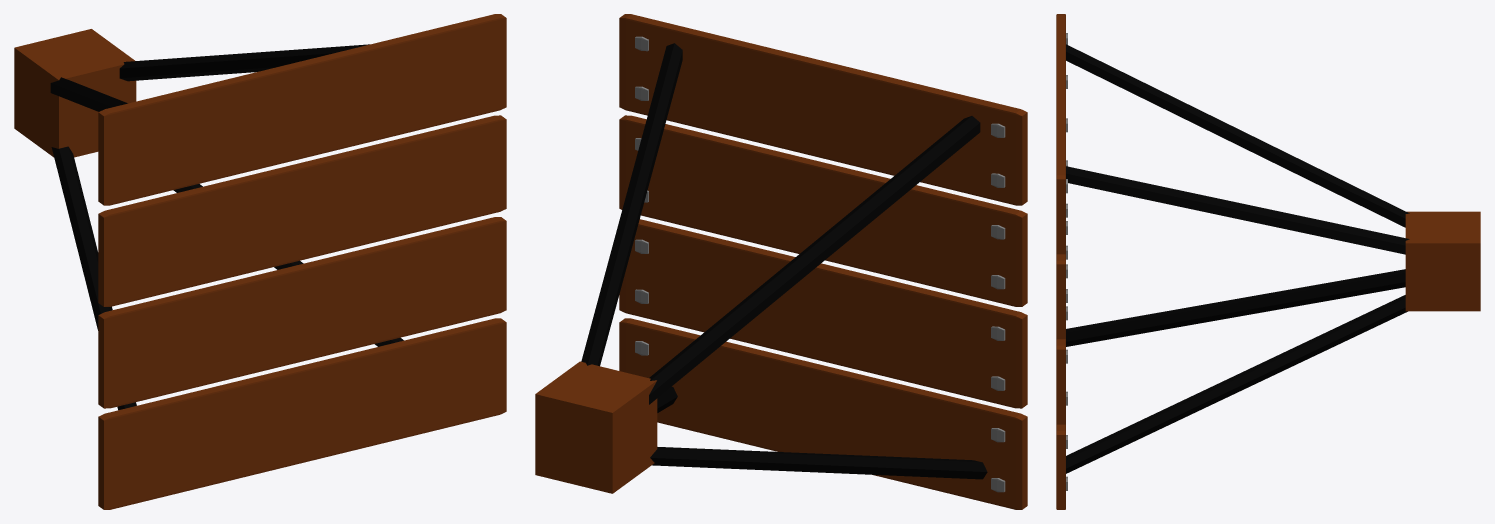
Rendered from lift.fbx.
3 views of the same model, side by side, from view 1: azimuth 30°, elevation 25°; view 2: azimuth 150°, elevation 25°; view 3: azimuth 270°, elevation 25° (orthographic). The views are drawn at different scales.
Parts seen in each view (by area): view 1: Cube.001; view 2: Cube.001; view 3: Cube.001.
Part boxes in pixels (left/top/right/bottom): Cube.001: left=14, top=14, right=506, bottom=509; Cube.001: left=535, top=14, right=1027, bottom=509; Cube.001: left=1056, top=14, right=1480, bottom=509.
Size of the model in its own units: 4.75 by 4.47 by 5.16.
